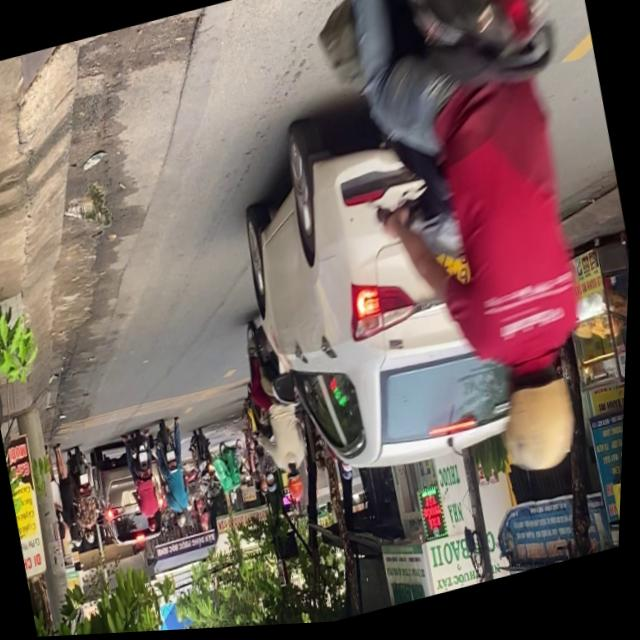helmet: (492, 356, 592, 489)
licenseplate: (296, 0, 640, 522)
